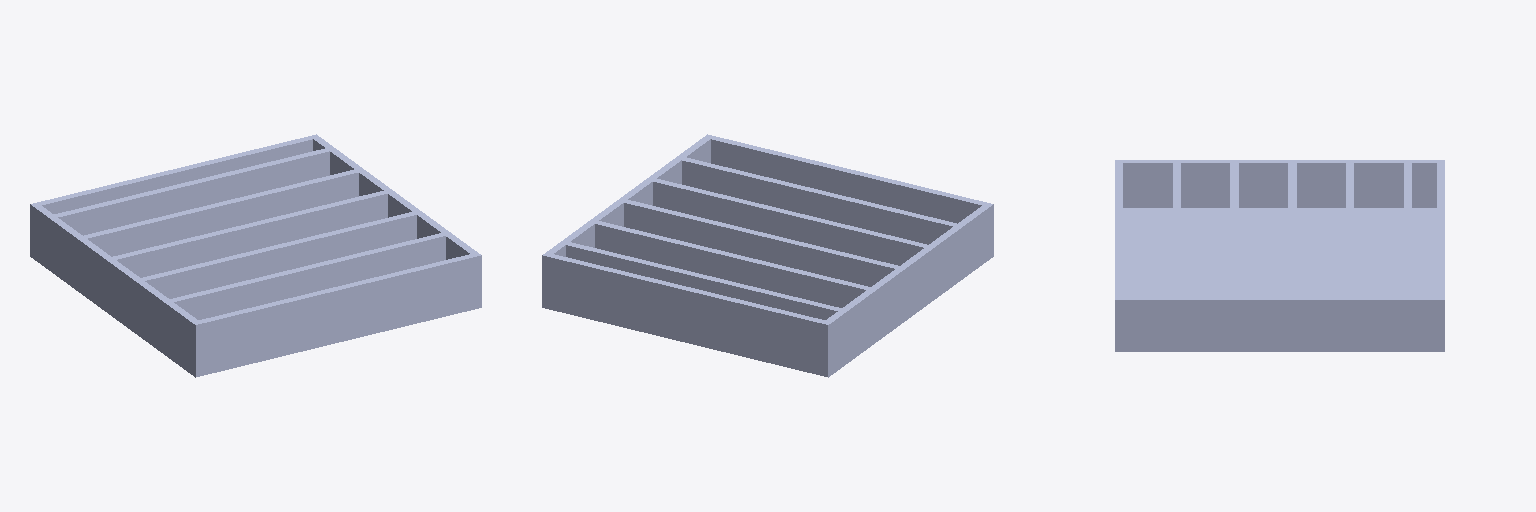
The model's file is grocery_shelf.obj.
3 views of the same model, side by side, from view 1: azimuth 30°, elevation 25°; view 2: azimuth 150°, elevation 25°; view 3: azimuth 270°, elevation 25° (orthographic).
Parts seen in each view (by area): view 1: grocery_shelf; view 2: grocery_shelf; view 3: grocery_shelf.
Part boxes in pixels (x1,y1,x2,y2): grocery_shelf: (30, 134, 481, 377); grocery_shelf: (542, 134, 993, 377); grocery_shelf: (1115, 160, 1444, 351).
Size of the model in its own units: 2 by 0.35 by 2.